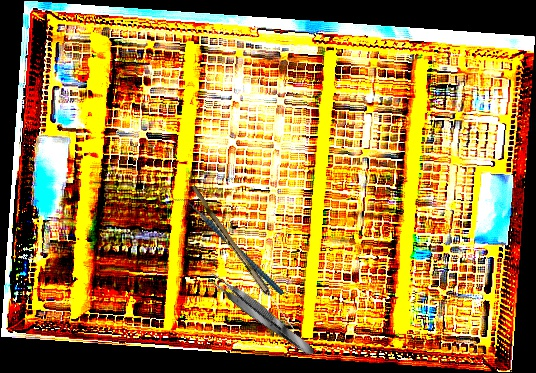Chopper: (172, 173, 285, 319)
Surgical Spoon: (188, 185, 299, 333)
Tissue Forceps: (204, 268, 319, 362)
